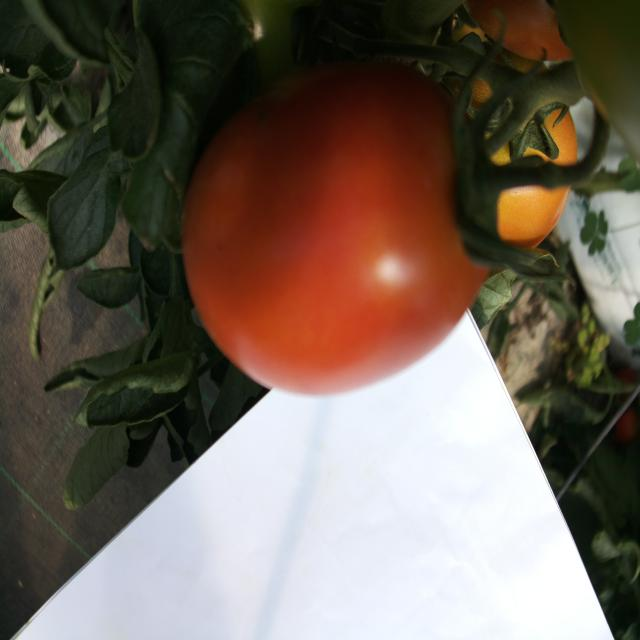kirmizi: (162, 36, 604, 375)
